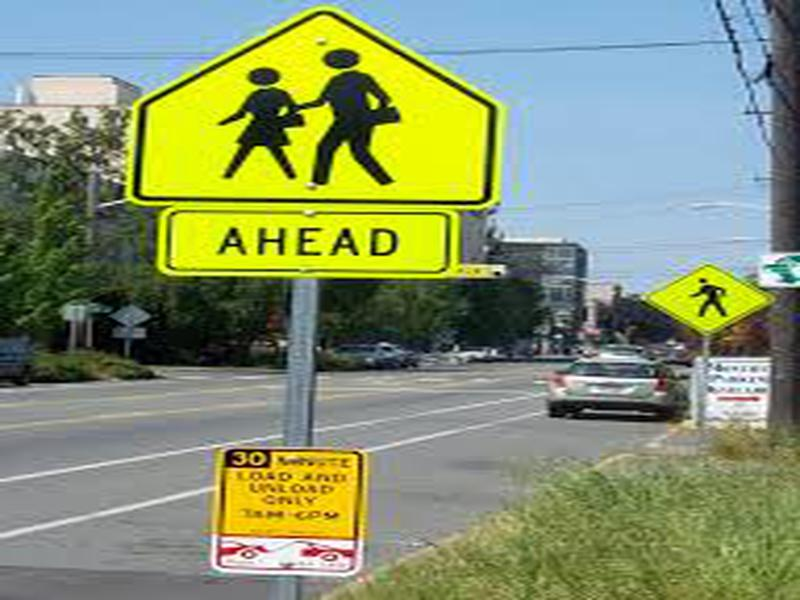slow: (126, 3, 500, 214)
